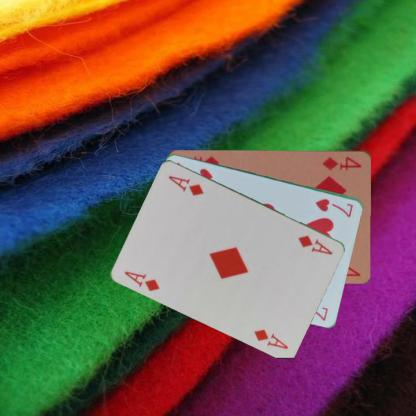4d: (320, 154, 363, 172)
7h: (313, 196, 355, 218)
Ad: (295, 232, 334, 257), (122, 268, 162, 292)
